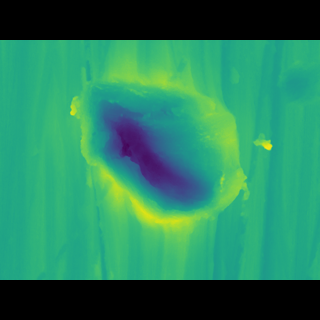Loch: (58, 91, 255, 224)
